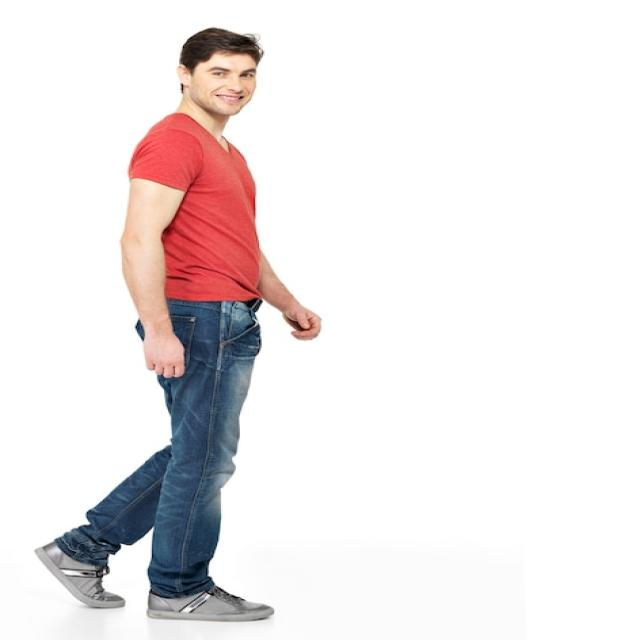Person: (34, 27, 322, 621)
